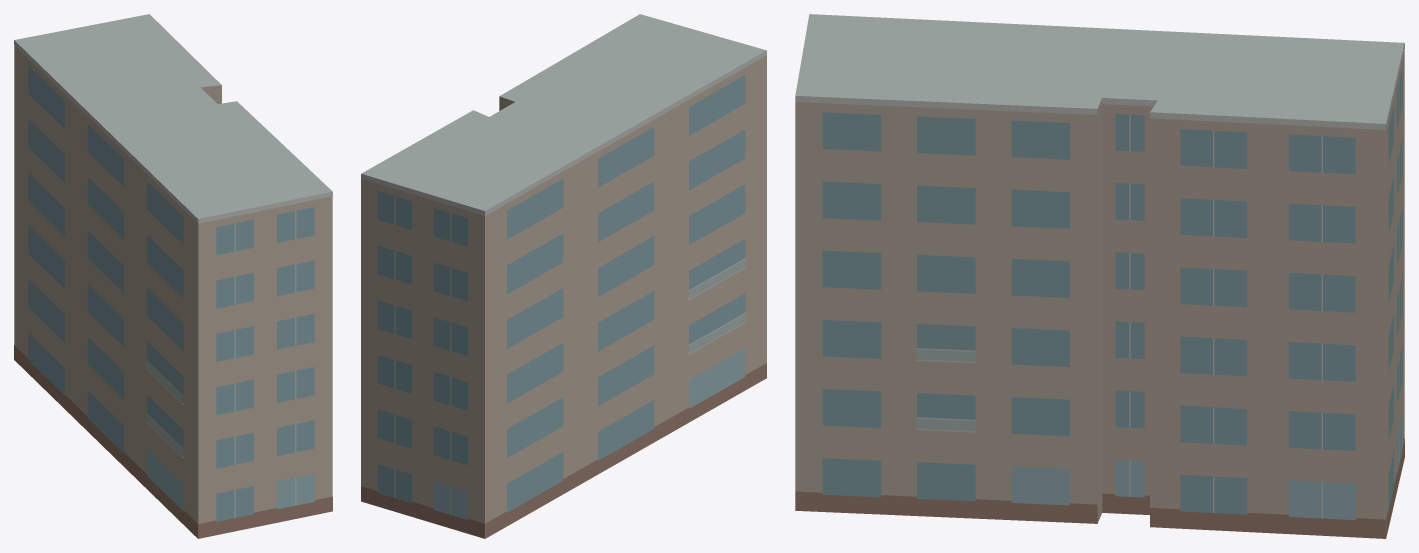
File: survey-upis-32564481.glb
3 views of the same model, side by side, from view 1: azimuth 30°, elevation 25°; view 2: azimuth 150°, elevation 25°; view 3: azimuth 270°, elevation 25° (orthographic). The views are drawn at different scales.
Visible parts, largest first — view 1: survey-upis-32564481.tmp; view 2: survey-upis-32564481.tmp; view 3: survey-upis-32564481.tmp.
Part boxes in pixels (x1=…): survey-upis-32564481.tmp: x1=14, y1=14, x2=332, y2=538; survey-upis-32564481.tmp: x1=361, y1=14, x2=766, y2=538; survey-upis-32564481.tmp: x1=795, y1=14, x2=1404, y2=538.
Size of the model in its own units: 9.44 by 16.6 by 22.11.
